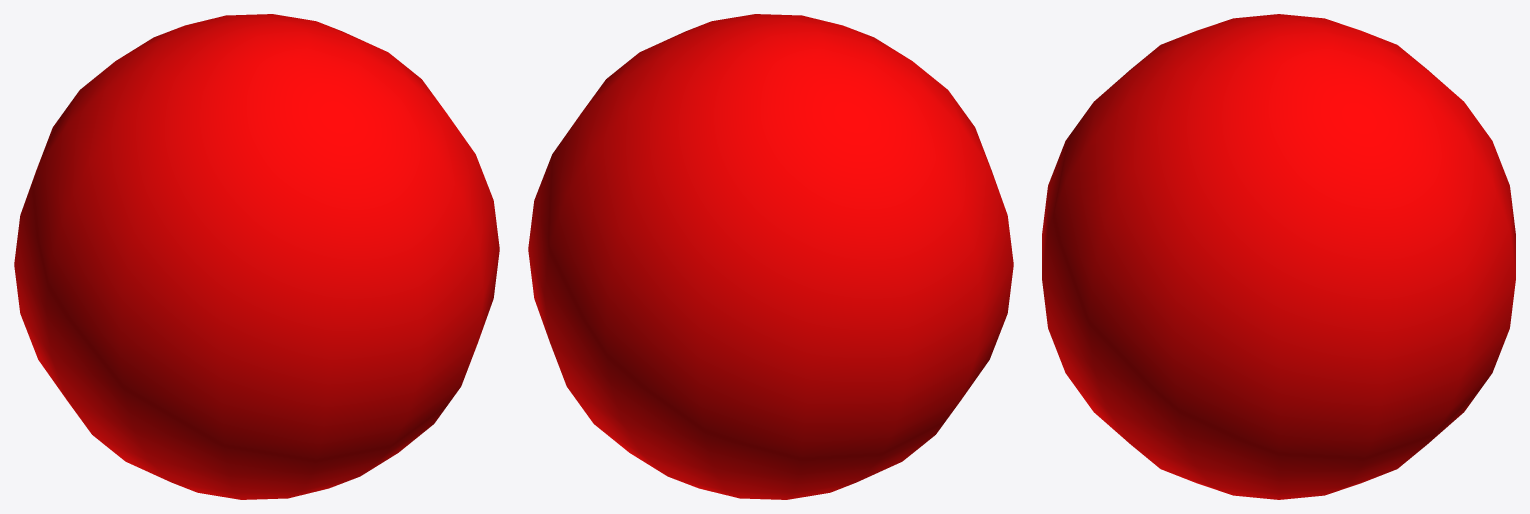
Rendered from SphereTextureTest.fbx.
3 renders of one model, left to right at view 1: azimuth 30°, elevation 25°; view 2: azimuth 150°, elevation 25°; view 3: azimuth 270°, elevation 25°, orthographic.
Visible parts, largest first — view 1: SphereTest; view 2: SphereTest; view 3: SphereTest.
Boxes of the visible parts, x1,y1,x2,y2 form: SphereTest: [14, 14, 499, 499]; SphereTest: [528, 14, 1013, 499]; SphereTest: [1042, 14, 1515, 499].
Size of the model in its own units: 3.05 by 3.05 by 2.97.
